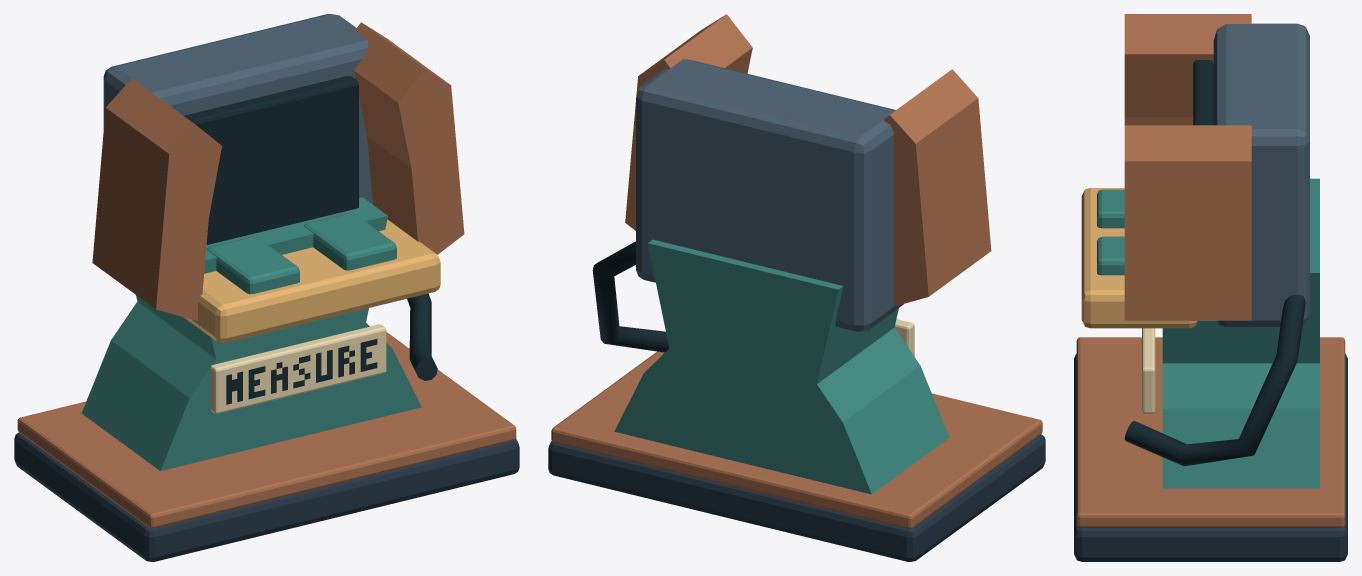
The picture shows the model from 3 angles, left to right: view 1: azimuth 30°, elevation 25°; view 2: azimuth 150°, elevation 25°; view 3: azimuth 270°, elevation 25°; orthographic projection.
Visible parts, largest first — view 1: PR060 enamel and hardware; view 2: PR060 enamel and hardware; view 3: PR060 enamel and hardware.
Part boxes in pixels (box(x1,y1,x2,y2)): PR060 enamel and hardware: box(14, 14, 519, 561); PR060 enamel and hardware: box(548, 14, 1045, 561); PR060 enamel and hardware: box(1074, 14, 1347, 561).
Size of the model in its own units: 0.9 by 0.9318 by 0.5718.
